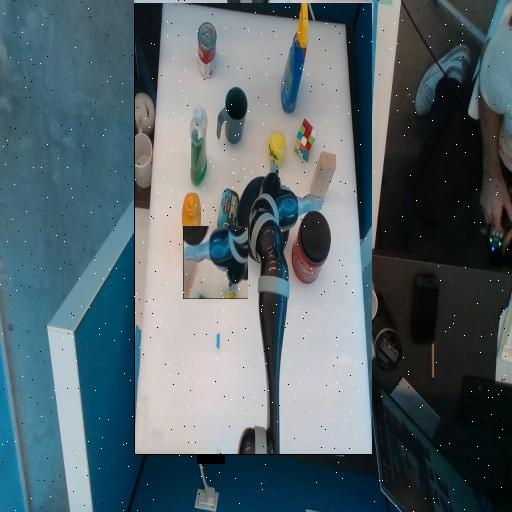bowl: (218, 194, 268, 280)
cleanser: (300, 271, 316, 350)
coffee_can: (175, 190, 214, 229)
jaco: (184, 226, 248, 298)
meat_can: (267, 214, 289, 268)
mug: (258, 326, 289, 356)
mustard_bottle: (306, 195, 324, 263)
rubik: (190, 295, 212, 338)
soup_can: (291, 379, 308, 434)
tennis_ball: (221, 300, 238, 317)
windex: (197, 394, 225, 416)
wooden_block: (171, 258, 195, 304)
workspace: (134, 3, 372, 454)
